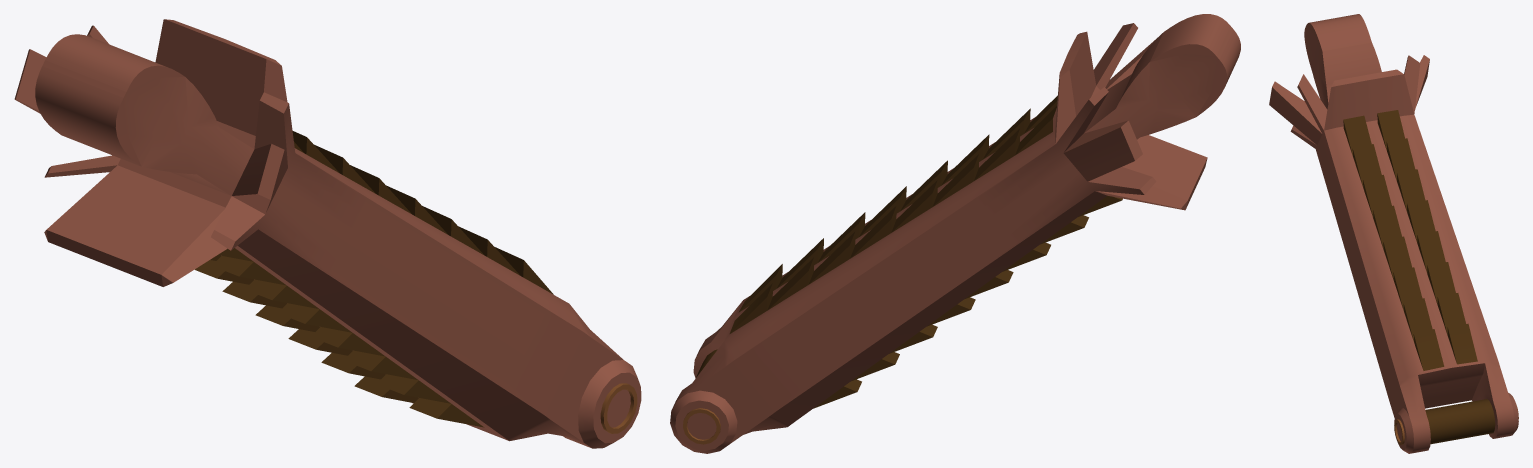
File: Spinnen Poot Deel 2.fbx
The picture shows the model from 3 angles, left to right: view 1: azimuth 30°, elevation 25°; view 2: azimuth 150°, elevation 25°; view 3: azimuth 270°, elevation 25°; orthographic projection. The views are drawn at different scales.
Visible parts, largest first — view 1: 2de onderdeel been.006; view 2: 2de onderdeel been.006; view 3: 2de onderdeel been.006.
Part boxes in pixels (x1,y1,x2,y2): 2de onderdeel been.006: (14, 19, 641, 448); 2de onderdeel been.006: (670, 14, 1240, 453); 2de onderdeel been.006: (1269, 14, 1518, 453).
Size of the model in its own units: 709 by 599 by 463.
